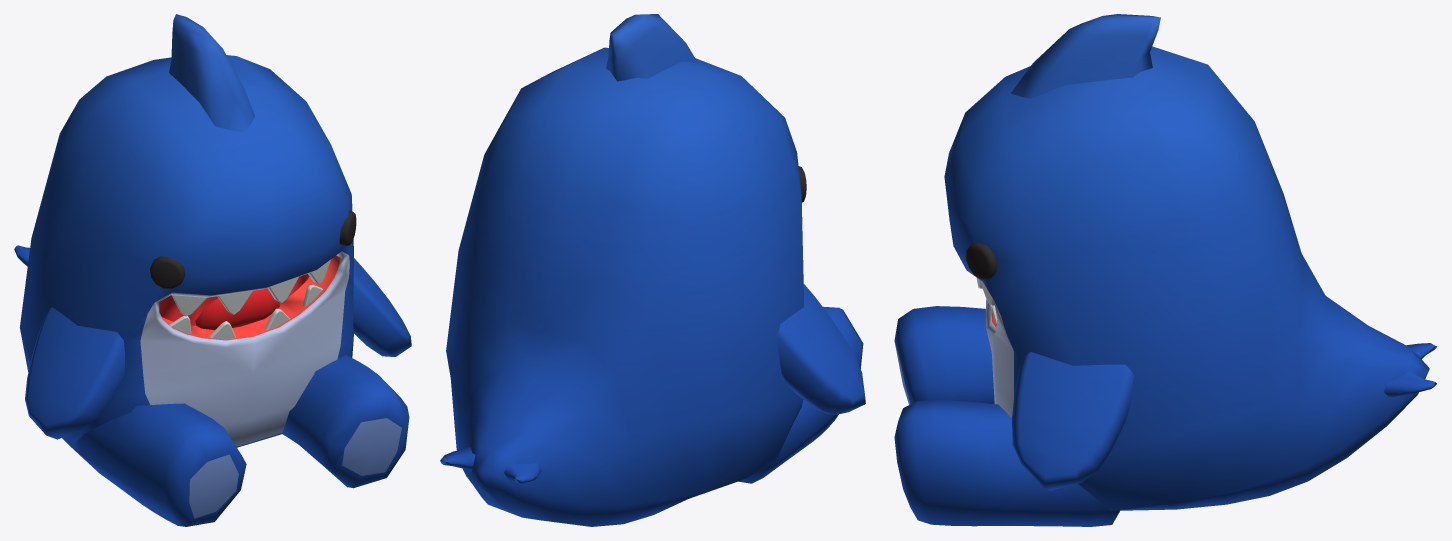
Rendered from Shark_01.fbx.
3 renders of one model, left to right at view 1: azimuth 30°, elevation 25°; view 2: azimuth 150°, elevation 25°; view 3: azimuth 270°, elevation 25°, orthographic. The views are drawn at different scales.
Parts seen in each view (by area): view 1: Shark_01; view 2: Shark_01; view 3: Shark_01.
Boxes of the visible parts, left/top/right/bottom form: Shark_01: left=14, top=14, right=411, bottom=526; Shark_01: left=440, top=14, right=865, bottom=526; Shark_01: left=894, top=14, right=1437, bottom=526.
Bounding box in the file's own units: 44.82 × 51.71 × 48.4.
